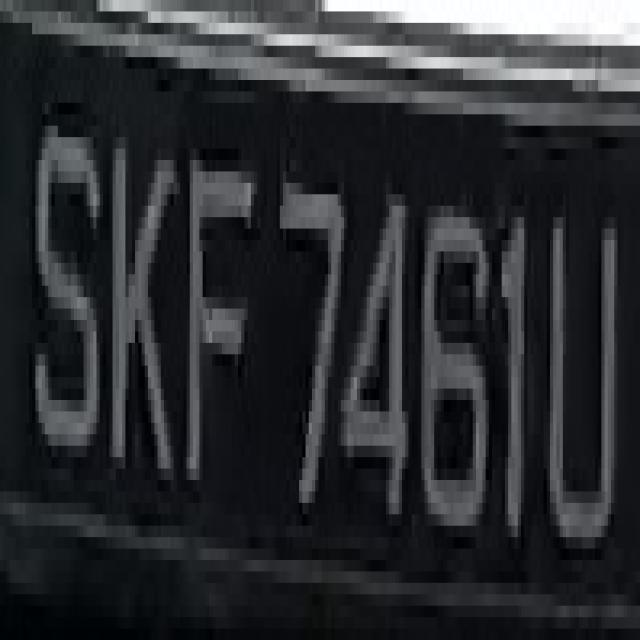1: (489, 137, 534, 560)
4: (341, 103, 415, 548)
6: (418, 160, 492, 571)
7: (270, 114, 341, 526)
F: (174, 126, 264, 503)
K: (94, 103, 170, 514)
S: (29, 69, 100, 492)
U: (543, 183, 624, 571)
